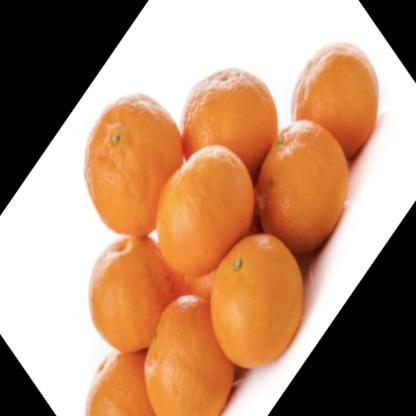fresh: (85, 42, 381, 416)
